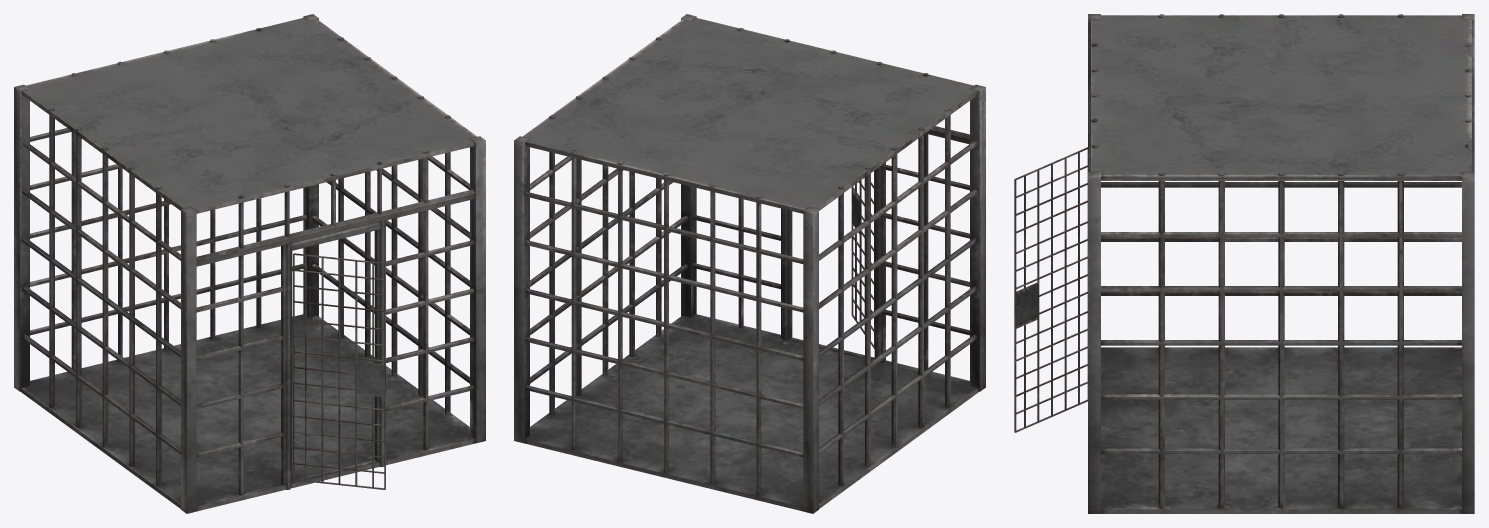
Rendered from prison-cage.lod0.glb.
3 views of the same model, side by side, from view 1: azimuth 30°, elevation 25°; view 2: azimuth 150°, elevation 25°; view 3: azimuth 270°, elevation 25° (orthographic). The views are drawn at different scales.
Visible parts, largest first — view 1: defaultMaterial; view 2: defaultMaterial; view 3: defaultMaterial.
Boxes of the visible parts, x1,y1,x2,y2 form: defaultMaterial: [14, 14, 485, 513]; defaultMaterial: [514, 14, 985, 513]; defaultMaterial: [1014, 14, 1474, 513].
Size of the model in its own units: 2.48 by 2.4 by 2.96.
Materials: 1 (1 with a texture image).
